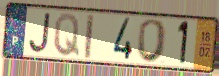1: (175, 19, 191, 68)
4: (111, 15, 135, 63)
I: (84, 12, 95, 60)
J: (28, 12, 53, 55)
O: (135, 18, 169, 65)
Q: (53, 12, 81, 58)
